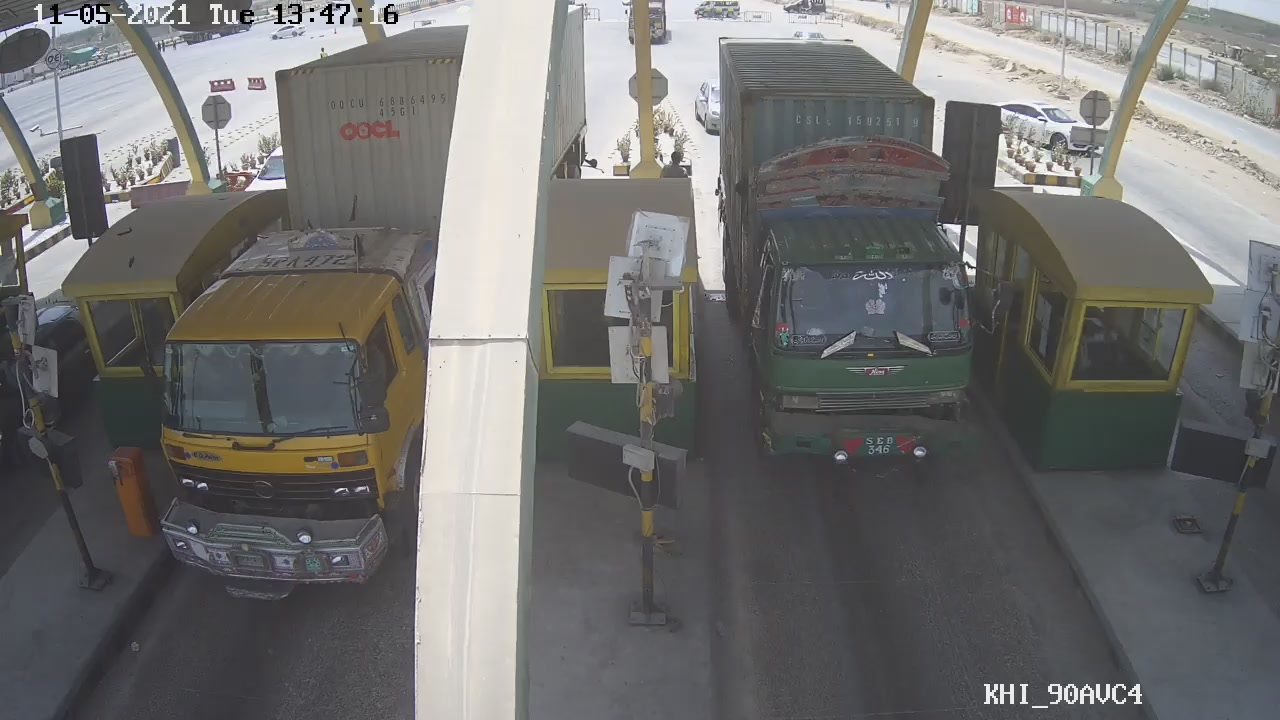F6: (716, 43, 992, 469)
